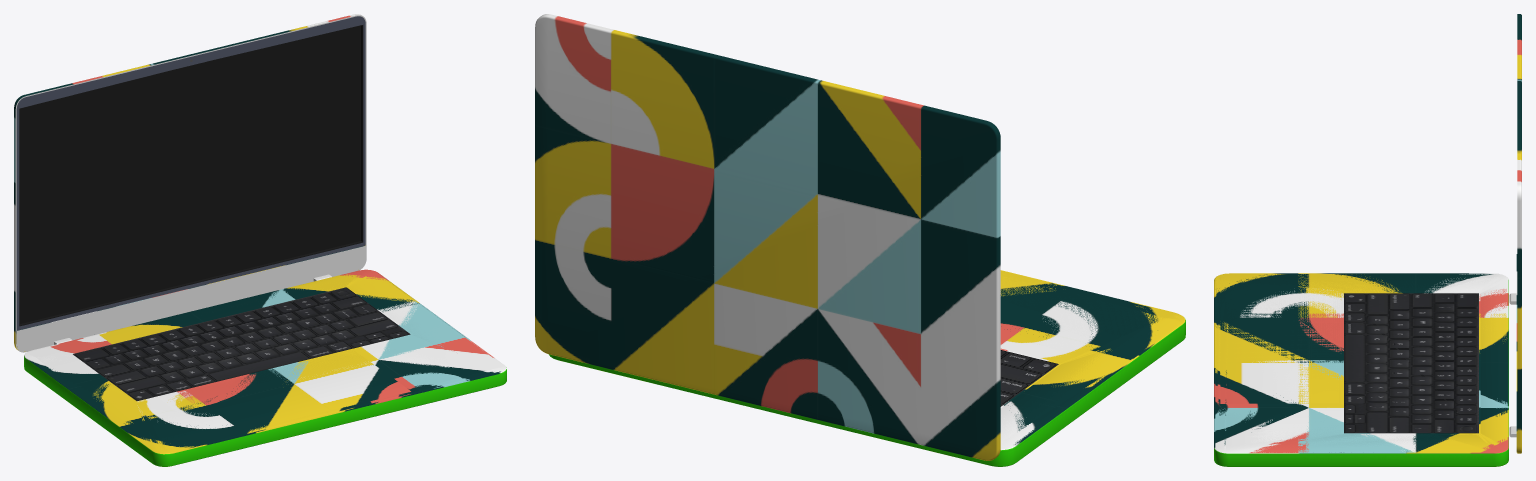
File: pc_2_baskı.fbx
3 views of the same model, side by side, from view 1: azimuth 30°, elevation 25°; view 2: azimuth 150°, elevation 25°; view 3: azimuth 270°, elevation 25° (orthographic). The views are drawn at different scales.
Parts seen in each view (by area): view 1: ekran_bosluk.001, kasa_klayve_bosluk.001, sadece_klavye.001, bos_kasa.001, kasa_klayve_mousepad_bosluk.001, kasa_mousepad_bosluk.001; view 2: ekran_bosluk.001, kasa_klayve_bosluk.001, kasa_mousepad_bosluk.001, bos_kasa.001, sadece_klavye.001, kasa_klayve_mousepad_bosluk.001; view 3: kasa_klayve_bosluk.001, sadece_klavye.001, bos_kasa.001, kasa_mousepad_bosluk.001, kasa_klayve_mousepad_bosluk.001, ekran_bosluk.001.
Part boxes in pixels (x1,y1,x2,y2): ekran_bosluk.001: (14,14,366,352); kasa_klayve_bosluk.001: (24,269,506,466); sadece_klavye.001: (73,287,410,400); bos_kasa.001: (24,270,506,465); kasa_klayve_mousepad_bosluk.001: (27,270,502,450); kasa_mousepad_bosluk.001: (87,270,504,453); ekran_bosluk.001: (535,14,1000,460); kasa_klayve_bosluk.001: (549,271,1185,466); kasa_mousepad_bosluk.001: (1000,270,1183,444); bos_kasa.001: (551,274,1185,464); sadece_klavye.001: (1000,350,1058,406); kasa_klayve_mousepad_bosluk.001: (1001,272,1180,448); kasa_klayve_bosluk.001: (1214,273,1508,466); sadece_klavye.001: (1344,293,1478,433); bos_kasa.001: (1214,274,1508,465); kasa_mousepad_bosluk.001: (1214,274,1506,452); kasa_klayve_mousepad_bosluk.001: (1216,273,1507,452); ekran_bosluk.001: (1509,14,1521,453).
Size of the model in its own units: 357 by 257 by 258.
